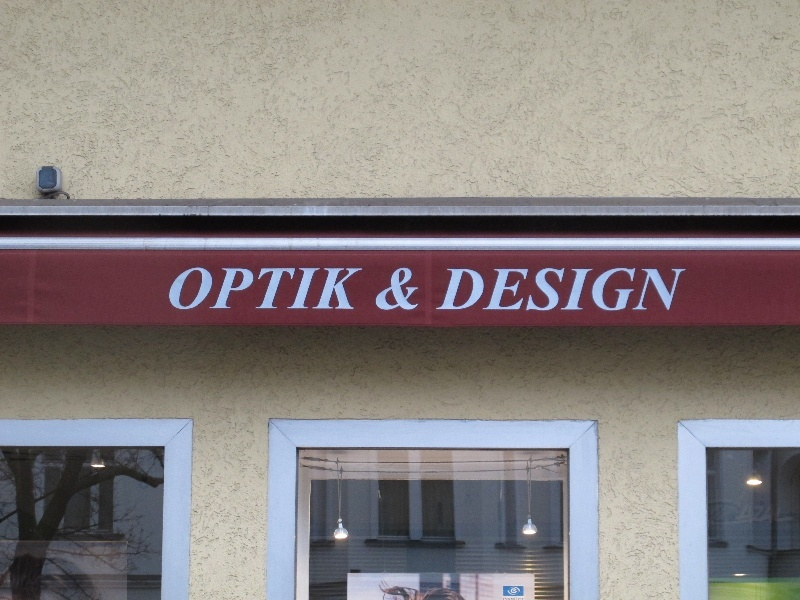text: (385, 265, 400, 311), (401, 265, 416, 311), (449, 269, 464, 313), (465, 269, 480, 313), (481, 269, 496, 313), (497, 269, 512, 313), (513, 269, 528, 313), (529, 269, 544, 313), (545, 269, 560, 313), (561, 269, 576, 313), (577, 269, 592, 313), (593, 269, 608, 313), (609, 269, 624, 313), (625, 269, 640, 313), (641, 269, 656, 313), (657, 269, 672, 313), (673, 269, 688, 313), (177, 267, 192, 311), (193, 267, 208, 311), (209, 267, 224, 311), (225, 267, 240, 311), (241, 267, 256, 311), (257, 267, 272, 311), (273, 267, 288, 311), (289, 267, 304, 311), (305, 267, 320, 311), (321, 267, 336, 311), (337, 267, 352, 311), (353, 267, 363, 311), (721, 498, 736, 527), (737, 498, 752, 527), (753, 498, 768, 527), (769, 498, 784, 527), (708, 498, 720, 527), (785, 498, 795, 527), (379, 265, 384, 311), (417, 265, 421, 311), (447, 269, 448, 313), (513, 598, 524, 600), (513, 589, 517, 594), (503, 598, 512, 600), (511, 589, 512, 594)
